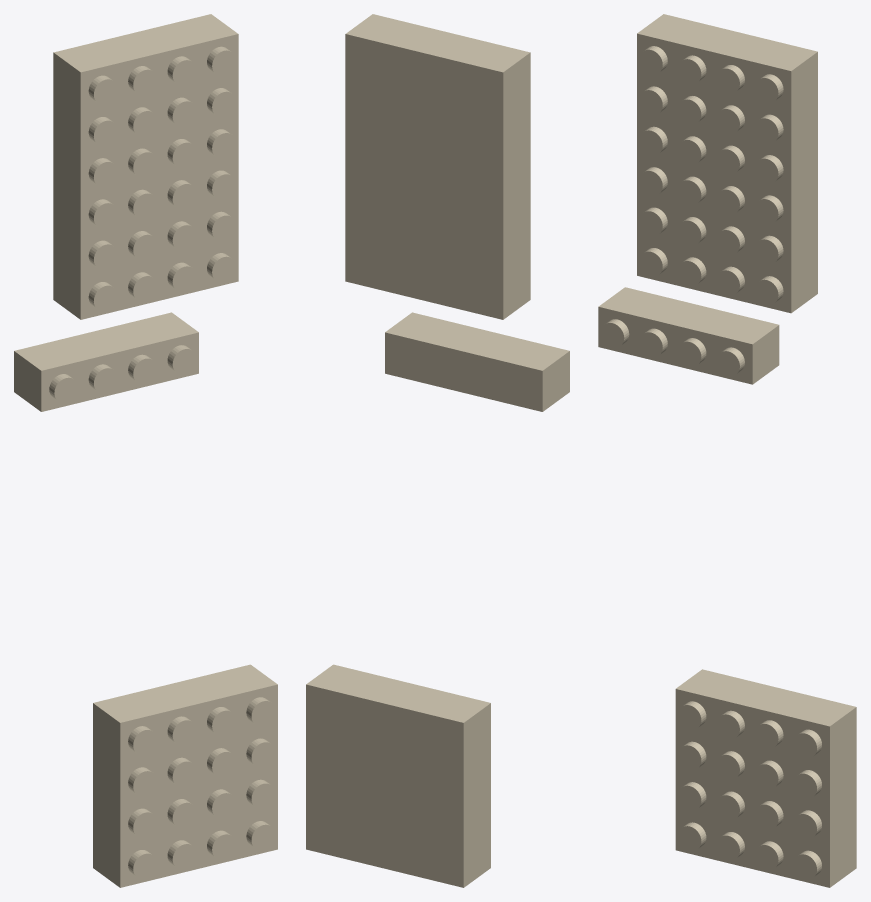
File: current.glb
3 views of the same model, side by side, from view 1: azimuth 30°, elevation 25°; view 2: azimuth 150°, elevation 25°; view 3: azimuth 330°, elevation 25° (orthographic). The views are drawn at different scales.
Visible parts, largest first — view 1: world; view 2: world; view 3: world.
Boxes of the visible parts, x1,y1,x2,y2 form: world: (14, 14, 277, 887); world: (306, 14, 569, 887); world: (598, 14, 856, 887).
Size of the model in its own units: 48 by 160 by 11.4.
